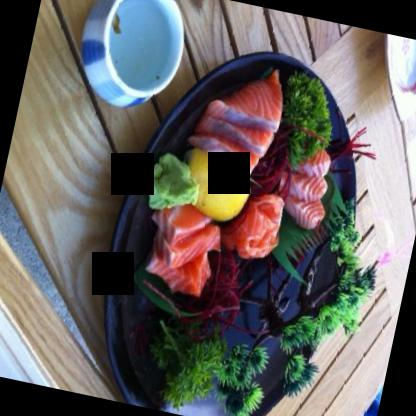salmon: (186, 56, 292, 180), (136, 196, 228, 300)
